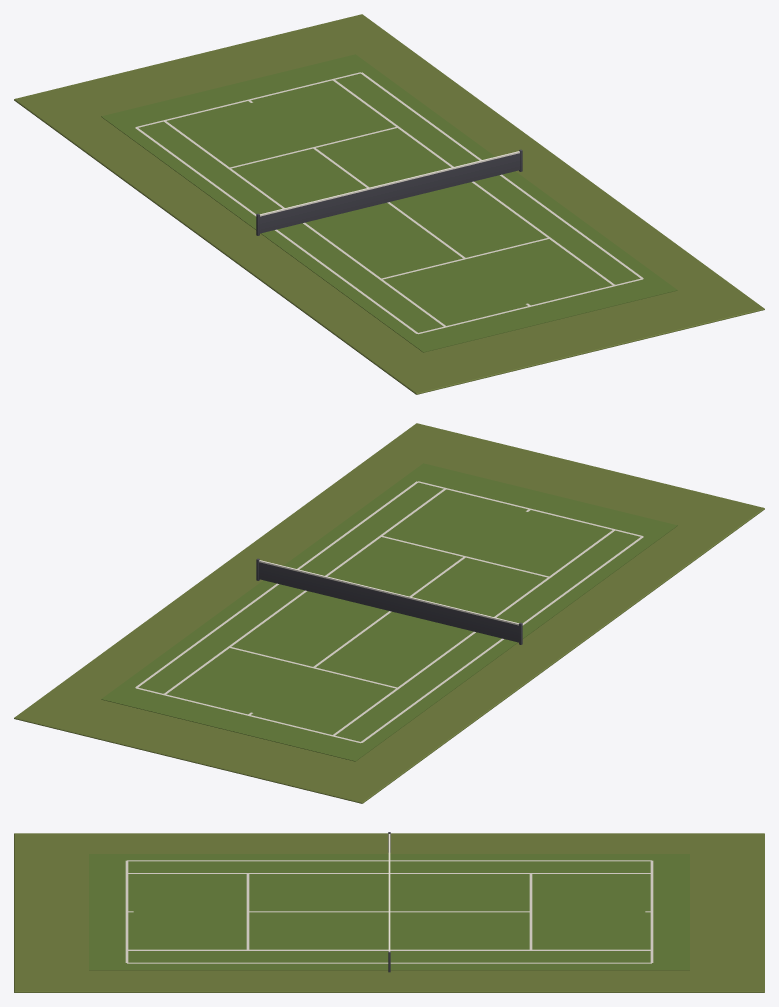
The model's file is tennis_court.glb.
3 views of the same model, one above another, from view 1: azimuth 30°, elevation 25°; view 2: azimuth 150°, elevation 25°; view 3: azimuth 270°, elevation 25° (orthographic). The views are drawn at different scales.
Visible parts, largest first — view 1: tennis_court; view 2: tennis_court; view 3: tennis_court.
Part boxes in pixels (x1=…): tennis_court: x1=14, y1=14, x2=764, y2=394; tennis_court: x1=14, y1=423, x2=764, y2=803; tennis_court: x1=14, y1=832, x2=764, y2=992.
Bounding box in the file's own units: 17 × 1.07 × 34.
1 material, 1 textured.
